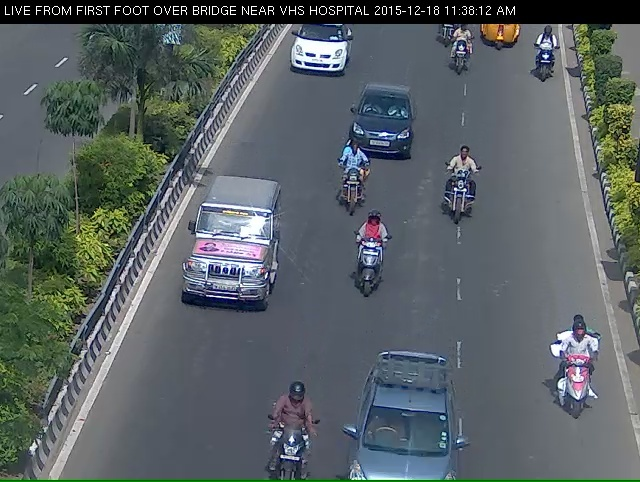Car: (345, 369, 473, 482), (179, 182, 275, 332), (343, 82, 423, 167), (280, 15, 354, 94), (476, 20, 526, 58)
Person: (551, 329, 603, 441), (321, 130, 380, 223), (264, 396, 311, 480), (437, 155, 475, 252), (348, 229, 388, 312), (531, 32, 560, 98), (446, 26, 474, 83)
